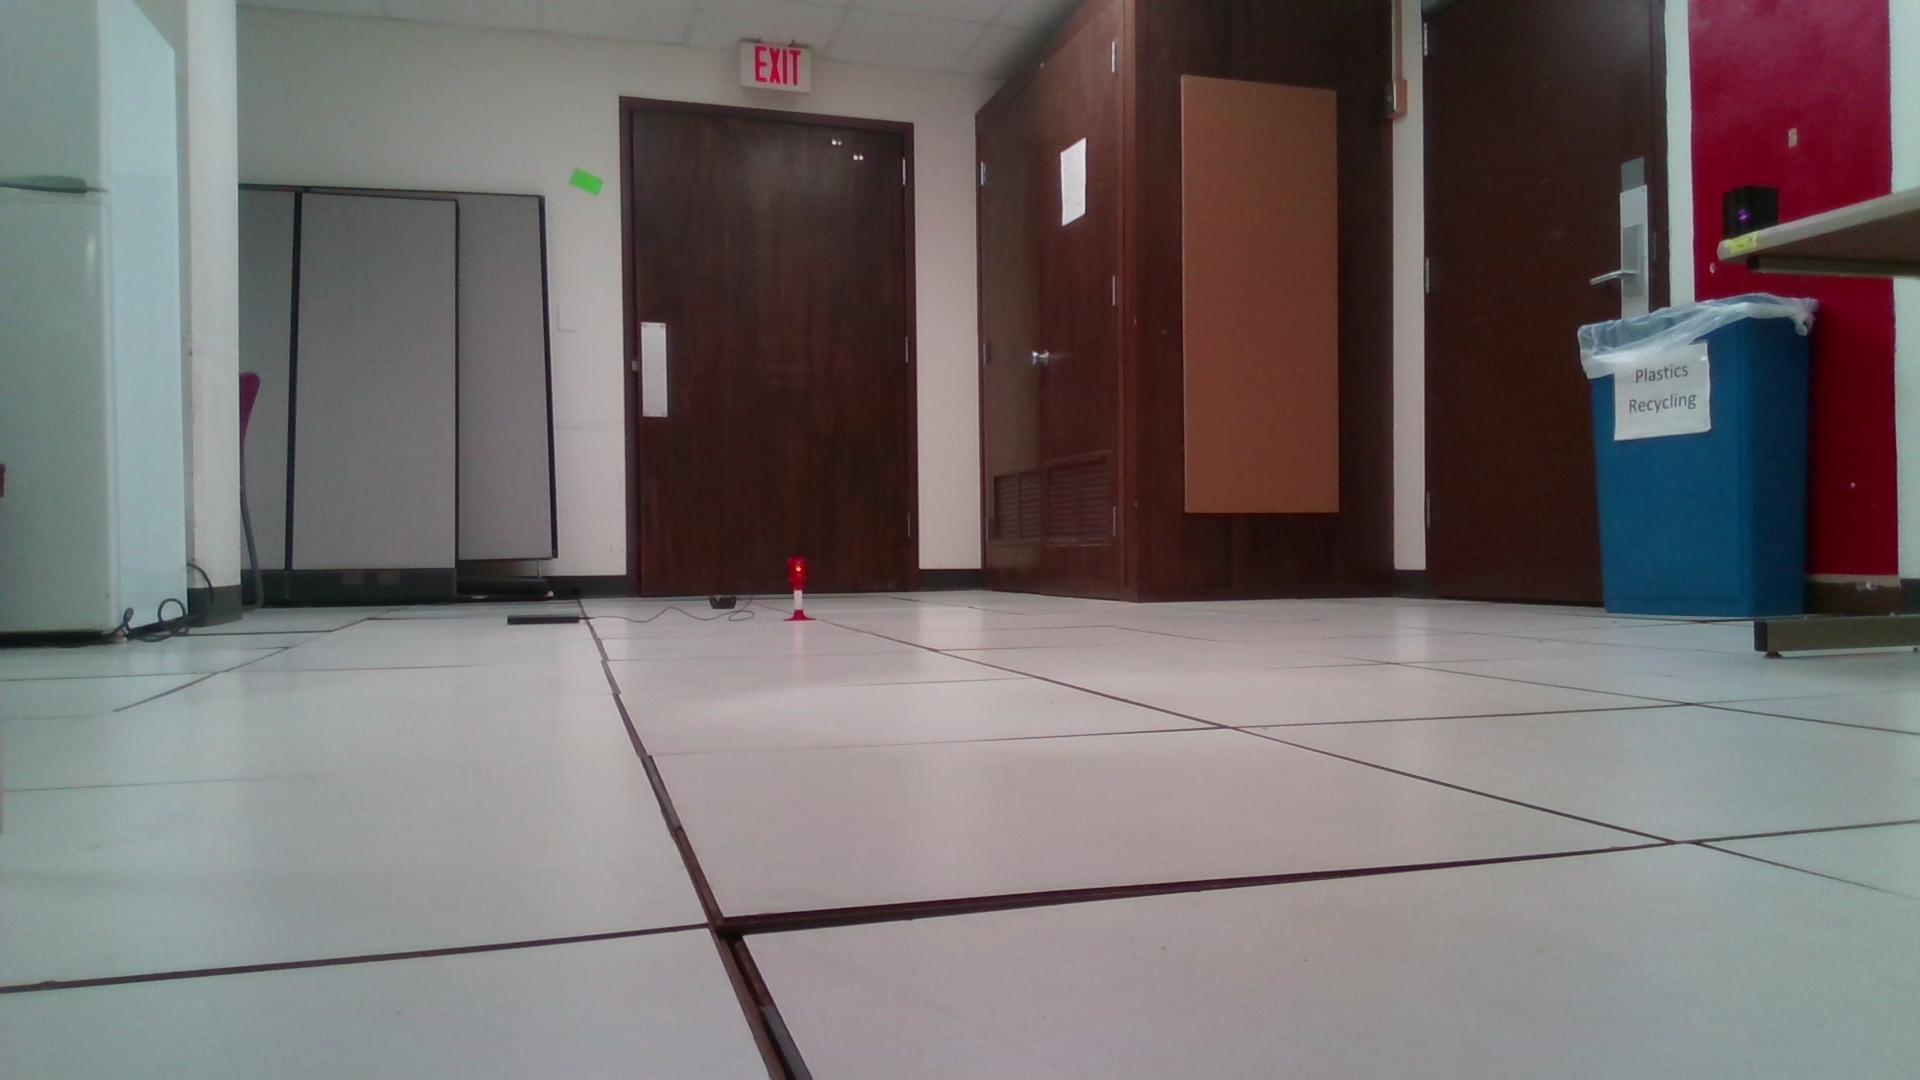stoplight: (785, 553, 808, 593)
